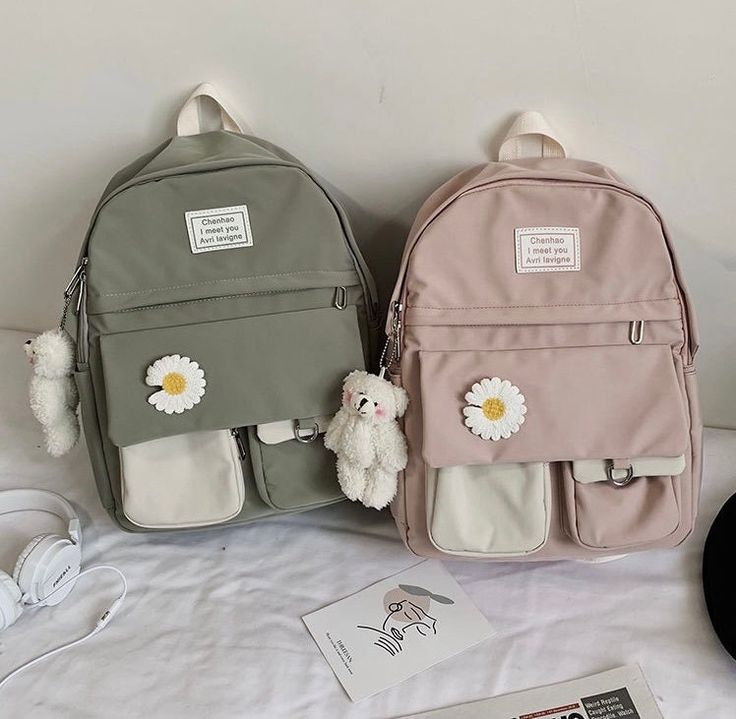nylon: (68, 129, 703, 563)
